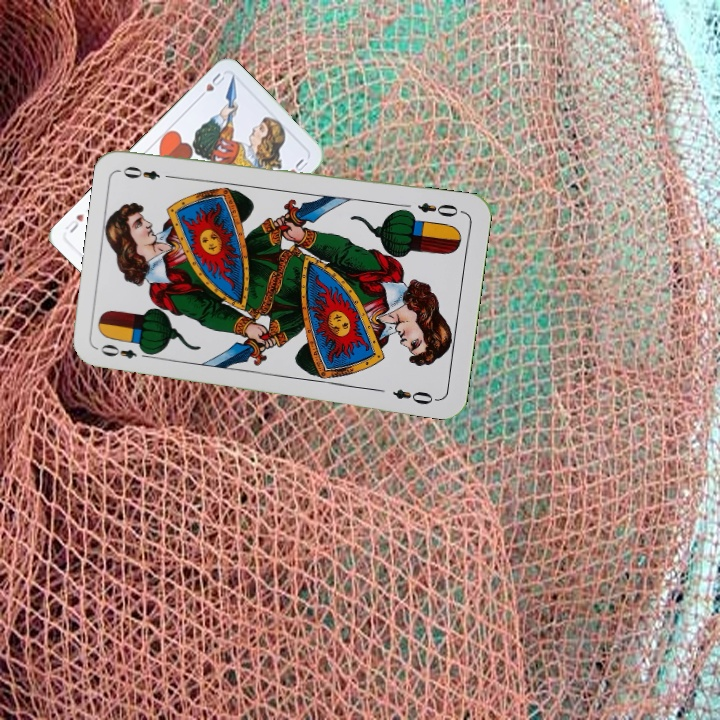EO: (96, 340, 154, 362), (413, 198, 461, 220)
HU: (194, 69, 228, 101)
